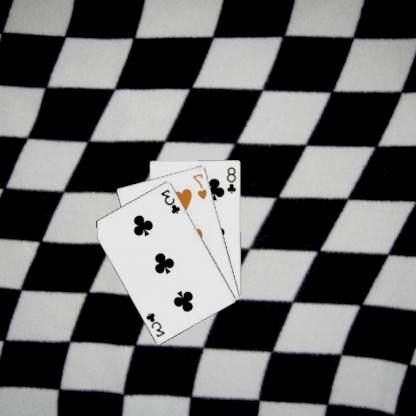3C: (160, 186, 184, 215), (145, 310, 168, 339)
7H: (192, 171, 210, 200)
8C: (226, 165, 240, 194)
